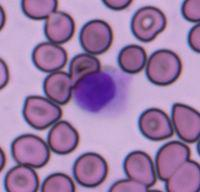L: (71, 68, 134, 119)
